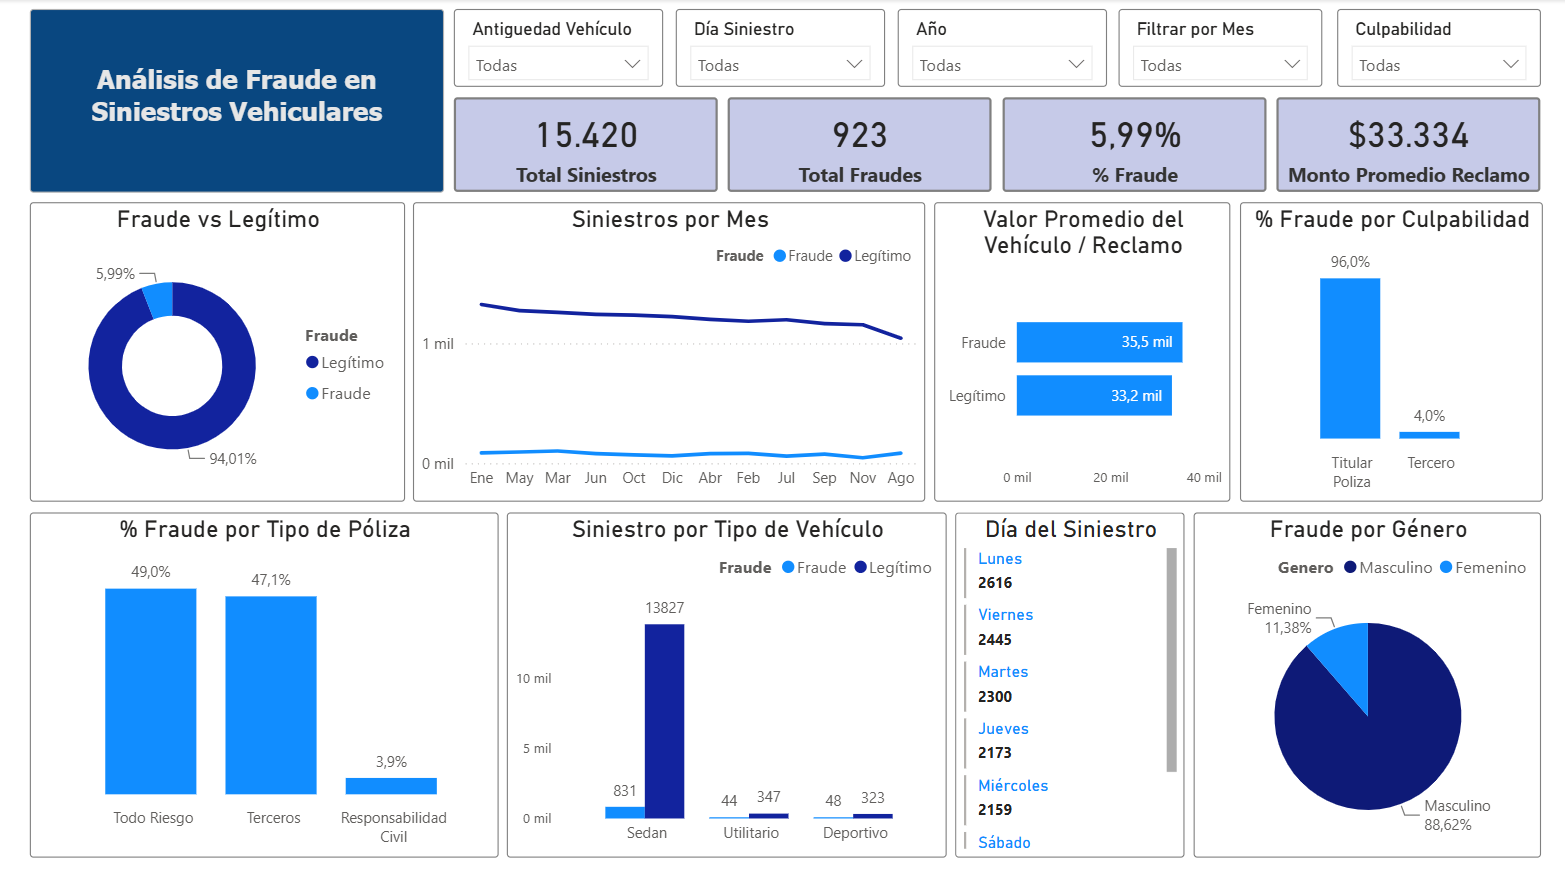

Layout of this report page (visuals, bound fields, positions):
{"tool":"powerbi","page":{"name":"Dashboard","canvas":[1280,720],"ordinal":0},"visuals":[{"type":"card","fields":{"Values":["CountNonNull(datos_limpios_para_powerbi.FraudeEncontrado)"]},"box":[369,80,215,77],"z":0},{"type":"card","fields":{"Values":["Sum(datos_limpios_para_powerbi.FraudeEncontrado)"]},"box":[592,80,215,77],"z":1000},{"type":"card","fields":{"Values":["Avg(datos_limpios_para_powerbi.FraudeEncontrado)"]},"box":[815,80,215,77],"z":2000},{"type":"card","fields":{"Values":["Avg(datos_limpios_para_powerbi.ValorVehiculo_ValorReclamo)"]},"box":[1038,80,215,77],"z":3000},{"type":"donutChart","title":"Fraude vs Legítimo","fields":{"Category":["datos_limpios_para_powerbi.Fraude"],"Y":["CountNonNull(datos_limpios_para_powerbi.FraudeEncontrado)"]},"box":[24,165,305,244],"z":4000},{"type":"clusteredColumnChart","title":"Siniestro por Tipo de Vehículo","fields":{"Category":["datos_limpios_para_powerbi.TipoVehiculo"],"Y":["CountNonNull(datos_limpios_para_powerbi.FraudeEncontrado)"],"Series":["datos_limpios_para_powerbi.Fraude"]},"box":[412,418,358,281],"z":5000},{"type":"lineChart","title":"Siniestros por Mes","fields":{"Category":["datos_limpios_para_powerbi.Mes"],"Y":["CountNonNull(datos_limpios_para_powerbi.FraudeEncontrado)"],"Series":["datos_limpios_para_powerbi.Fraude"]},"box":[336,165,417,244],"z":6000},{"type":"clusteredBarChart","title":"Valor Promedio del Vehículo / Reclamo","fields":{"Category":["datos_limpios_para_powerbi.Fraude"],"Y":["Avg(datos_limpios_para_powerbi.ValorVehiculo_ValorReclamo)"]},"box":[760,165,241,244],"z":7000},{"type":"columnChart","title":"% Fraude por Tipo de Póliza","fields":{"Category":["datos_limpios_para_powerbi.TipoPoliza"],"Y":["Divide(Sum(datos_limpios_para_powerbi.FraudeEncontrado), ScopedEval(Sum(datos_limpios_para_powerbi.FraudeEncontrado), []"]},"box":[24,418,381,281],"z":8000},{"type":"columnChart","title":"% Fraude por Culpabilidad","fields":{"Category":["datos_limpios_para_powerbi.Culpabilidad"],"Y":["Divide(Sum(datos_limpios_para_powerbi.FraudeEncontrado), ScopedEval(Sum(datos_limpios_para_powerbi.FraudeEncontrado), []"]},"box":[1008,165,246,244],"z":9000},{"type":"slicer","fields":{"Values":["datos_limpios_para_powerbi.Mes"]},"box":[910,8,166,63],"z":10000},{"type":"slicer","fields":{"Values":["datos_limpios_para_powerbi.Culpabilidad"]},"box":[1087,8,166,63],"z":11000},{"type":"slicer","fields":{"Values":["datos_limpios_para_powerbi.Año"]},"box":[730,8,170,63],"z":12000},{"type":"pieChart","title":"Fraude por Género","fields":{"Category":["datos_limpios_para_powerbi.Genero"],"Y":["Divide(Sum(datos_limpios_para_powerbi.FraudeEncontrado), ScopedEval(Sum(datos_limpios_para_powerbi.FraudeEncontrado), []"]},"box":[971,418,283,281],"z":13000},{"type":"multiRowCard","title":"Día del Siniestro","fields":{"Values":["CountNonNull(datos_limpios_para_powerbi.FraudeEncontrado)","datos_limpios_para_powerbi.Dia_semana"]},"box":[777,418,187,281],"z":14000},{"type":"slicer","fields":{"Values":["datos_limpios_para_powerbi.Dia_semana"]},"box":[550,8,170,63],"z":15000},{"type":"slicer","fields":{"Values":["datos_limpios_para_powerbi.Antiguedad_Vehiculo"]},"box":[369,8,170,63],"z":16000},{"type":"textbox","box":[24,8,337,149],"z":17000}]}

Visuals, with their boxes in screenshot pixels (x1, y1, x2, y2), scaled from the page's 1280x720 canvas onto the 1565x874 screenshot:
card - CountNonNull(datos_limpios_para_powerbi.FraudeEncontrado): (451,97,714,191)
card - Sum(datos_limpios_para_powerbi.FraudeEncontrado): (724,97,987,191)
card - Avg(datos_limpios_para_powerbi.FraudeEncontrado): (996,97,1259,191)
card - Avg(datos_limpios_para_powerbi.ValorVehiculo_ValorReclamo): (1269,97,1532,191)
"Fraude vs Legítimo" donutChart: (29,200,402,496)
"Siniestro por Tipo de Vehículo" clusteredColumnChart: (504,507,941,849)
"Siniestros por Mes" lineChart: (411,200,921,496)
"Valor Promedio del Vehículo / Reclamo" clusteredBarChart: (929,200,1224,496)
"% Fraude por Tipo de Póliza" columnChart: (29,507,495,849)
"% Fraude por Culpabilidad" columnChart: (1232,200,1533,496)
slicer - datos_limpios_para_powerbi.Mes: (1113,10,1316,86)
slicer - datos_limpios_para_powerbi.Culpabilidad: (1329,10,1532,86)
slicer - datos_limpios_para_powerbi.Año: (893,10,1100,86)
"Fraude por Género" pieChart: (1187,507,1533,849)
"Día del Siniestro" multiRowCard: (950,507,1179,849)
slicer - datos_limpios_para_powerbi.Dia_semana: (672,10,880,86)
slicer - datos_limpios_para_powerbi.Antiguedad_Vehiculo: (451,10,659,86)
textbox: (29,10,441,191)
